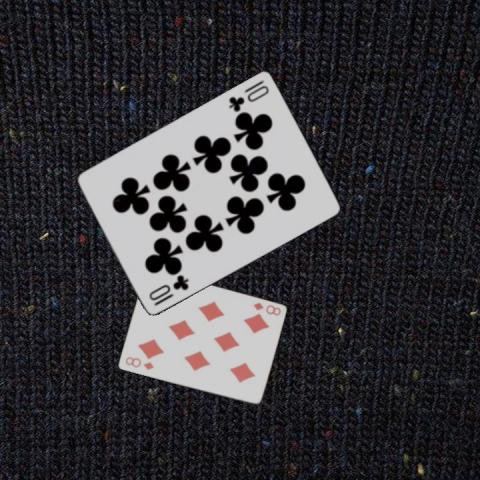10c: (226, 76, 271, 112), (146, 271, 191, 307)
8d: (250, 300, 282, 318), (122, 354, 155, 371)
